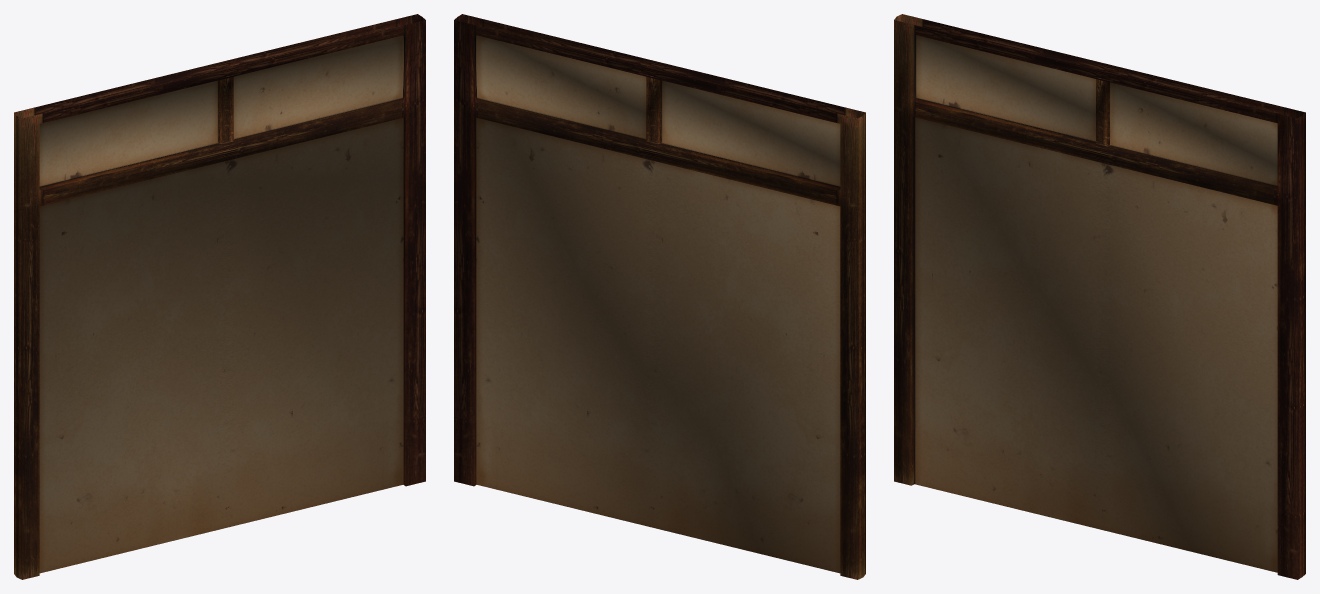
The model's file is dh_wall02.FBX.
3 views of the same model, side by side, from view 1: azimuth 30°, elevation 25°; view 2: azimuth 150°, elevation 25°; view 3: azimuth 330°, elevation 25° (orthographic).
Visible parts, largest first — view 1: Plane010; view 2: Plane010; view 3: Plane010.
Boxes of the visible parts, bbox=[...] form: Plane010: bbox=[14, 14, 425, 579]; Plane010: bbox=[454, 14, 865, 579]; Plane010: bbox=[894, 14, 1305, 579].
Size of the model in its own units: 78.79 by 85.66 by 2.75.
